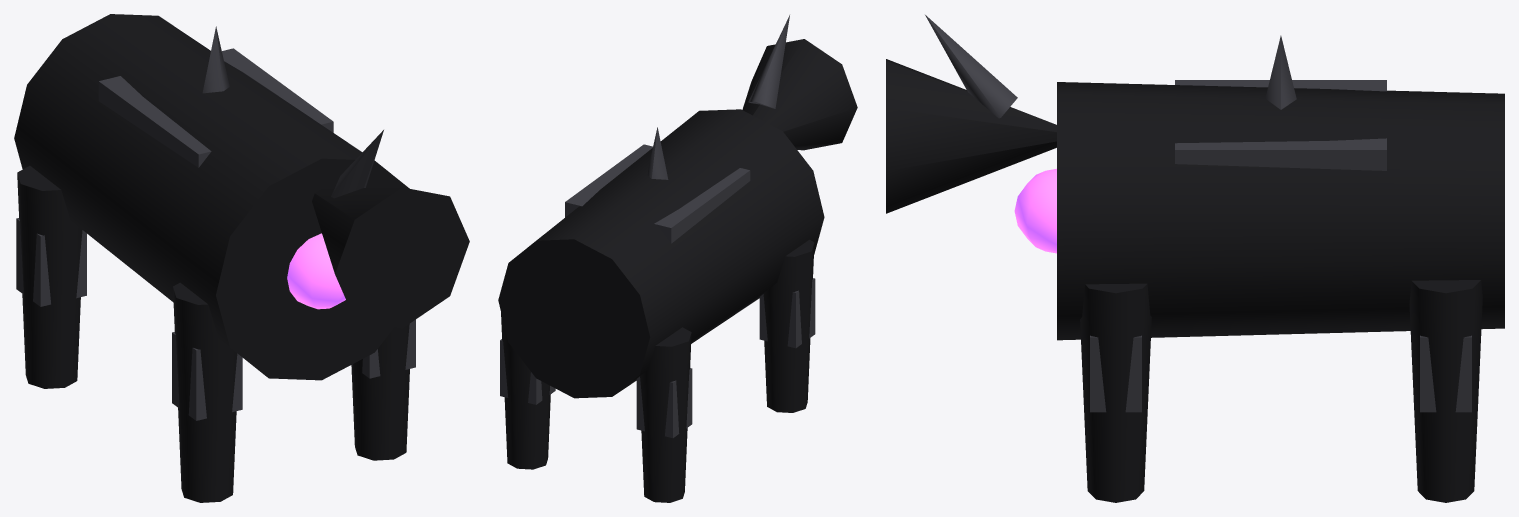
The model's file is mount_fenrir_black.glb.
3 views of the same model, side by side, from view 1: azimuth 30°, elevation 25°; view 2: azimuth 150°, elevation 25°; view 3: azimuth 270°, elevation 25° (orthographic). The views are drawn at different scales.
Parts seen in each view (by area): view 1: MOUNT_FENRIR_BLACK; view 2: MOUNT_FENRIR_BLACK; view 3: MOUNT_FENRIR_BLACK.
Part boxes in pixels (bbox=[...]): MOUNT_FENRIR_BLACK: bbox=[14, 14, 469, 502]; MOUNT_FENRIR_BLACK: bbox=[498, 15, 857, 502]; MOUNT_FENRIR_BLACK: bbox=[886, 15, 1504, 502].
Size of the model in its own units: 1.22 by 2.02 by 2.62.
